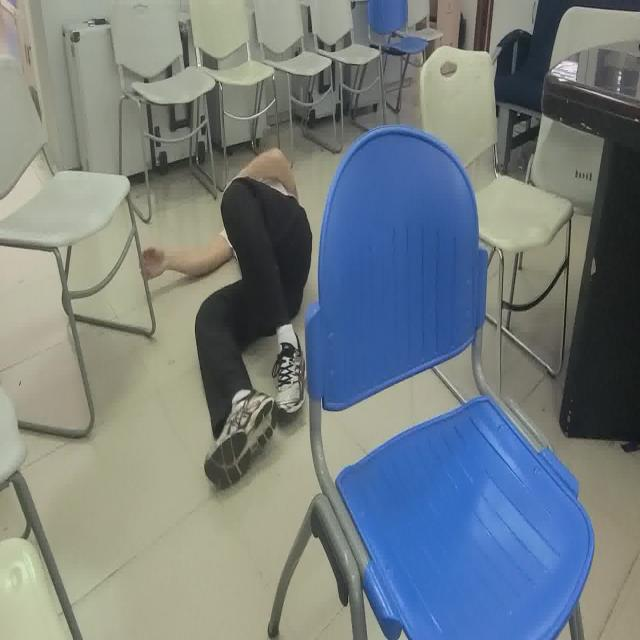Fall-Detected: (138, 143, 312, 490)
